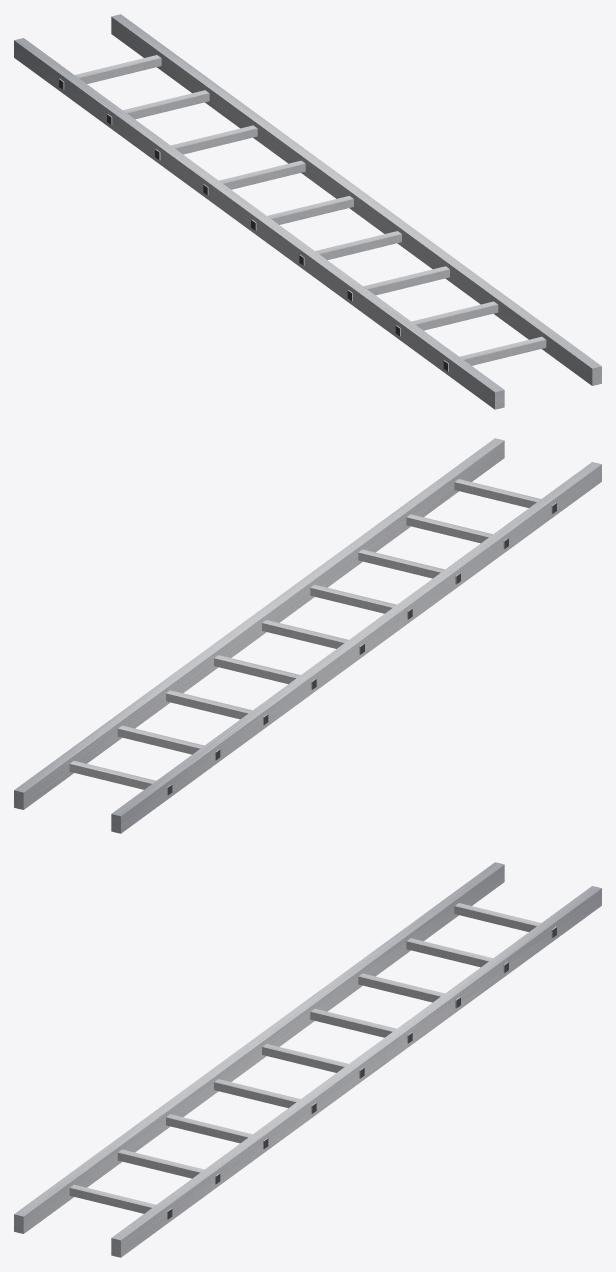
Rendered from Ladder.fbx.
The picture shows the model from 3 angles, top to bottom: view 1: azimuth 30°, elevation 25°; view 2: azimuth 150°, elevation 25°; view 3: azimuth 330°, elevation 25°; orthographic projection.
Visible parts, largest first — view 1: Ladder, Lateral.001, Step.005, Step.006, Step.004, Step.002, Step.003, Step.001, Step, Step.007, Step.008; view 2: Ladder, Lateral.001, Step.003, Step.004, Step.005, Step.007, Step.006, Step.008, Step, Step.001, Step.002; view 3: Lateral.001, Ladder, Step.005, Step.006, Step.004, Step.002, Step.003, Step.001, Step, Step.007, Step.008.
Part boxes in pixels (bbox=[...]): Ladder: bbox=[14, 38, 504, 409]; Lateral.001: bbox=[111, 14, 601, 385]; Step.005: bbox=[443, 336, 546, 371]; Step.006: bbox=[395, 301, 498, 336]; Step.004: bbox=[59, 55, 161, 89]; Step.002: bbox=[155, 125, 257, 160]; Step.003: bbox=[107, 90, 209, 124]; Step.001: bbox=[203, 160, 305, 195]; Step: bbox=[251, 196, 353, 230]; Step.007: bbox=[347, 266, 449, 300]; Step.008: bbox=[299, 231, 401, 265]; Ladder: bbox=[111, 462, 601, 833]; Lateral.001: bbox=[14, 438, 504, 809]; Step.003: bbox=[117, 725, 220, 760]; Step.004: bbox=[69, 760, 172, 795]; Step.005: bbox=[454, 479, 556, 513]; Step.007: bbox=[358, 549, 460, 584]; Step.006: bbox=[406, 514, 508, 548]; Step.008: bbox=[310, 584, 412, 619]; Step: bbox=[262, 620, 364, 654]; Step.001: bbox=[214, 655, 316, 689]; Step.002: bbox=[166, 690, 268, 724]; Lateral.001: bbox=[111, 886, 601, 1257]; Ladder: bbox=[14, 862, 504, 1233]; Step.005: bbox=[69, 1184, 172, 1219]; Step.006: bbox=[117, 1149, 220, 1184]; Step.004: bbox=[454, 903, 556, 937]; Step.002: bbox=[358, 973, 460, 1008]; Step.003: bbox=[406, 938, 508, 972]; Step.001: bbox=[310, 1008, 412, 1043]; Step: bbox=[262, 1044, 364, 1078]; Step.007: bbox=[166, 1114, 268, 1148]; Step.008: bbox=[214, 1079, 316, 1113].
Bounding box in the file's own units: 78.62 × 12 × 600.
